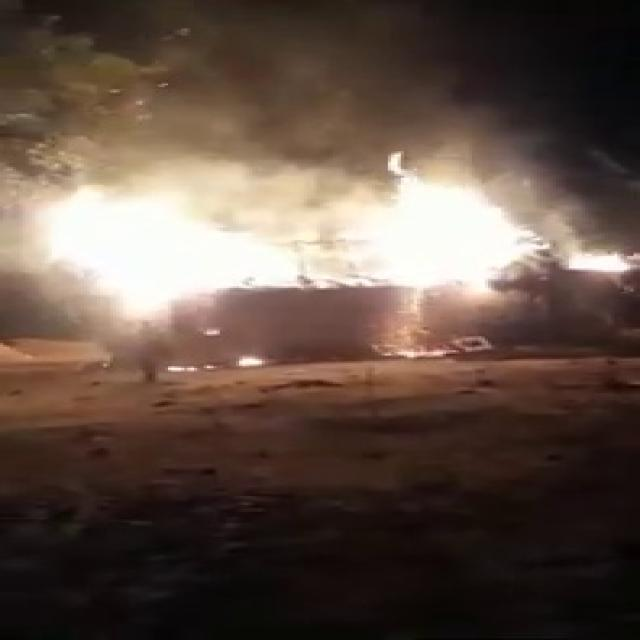Fire: (16, 153, 530, 309), (572, 247, 634, 276)
Smoke: (22, 16, 604, 201)
